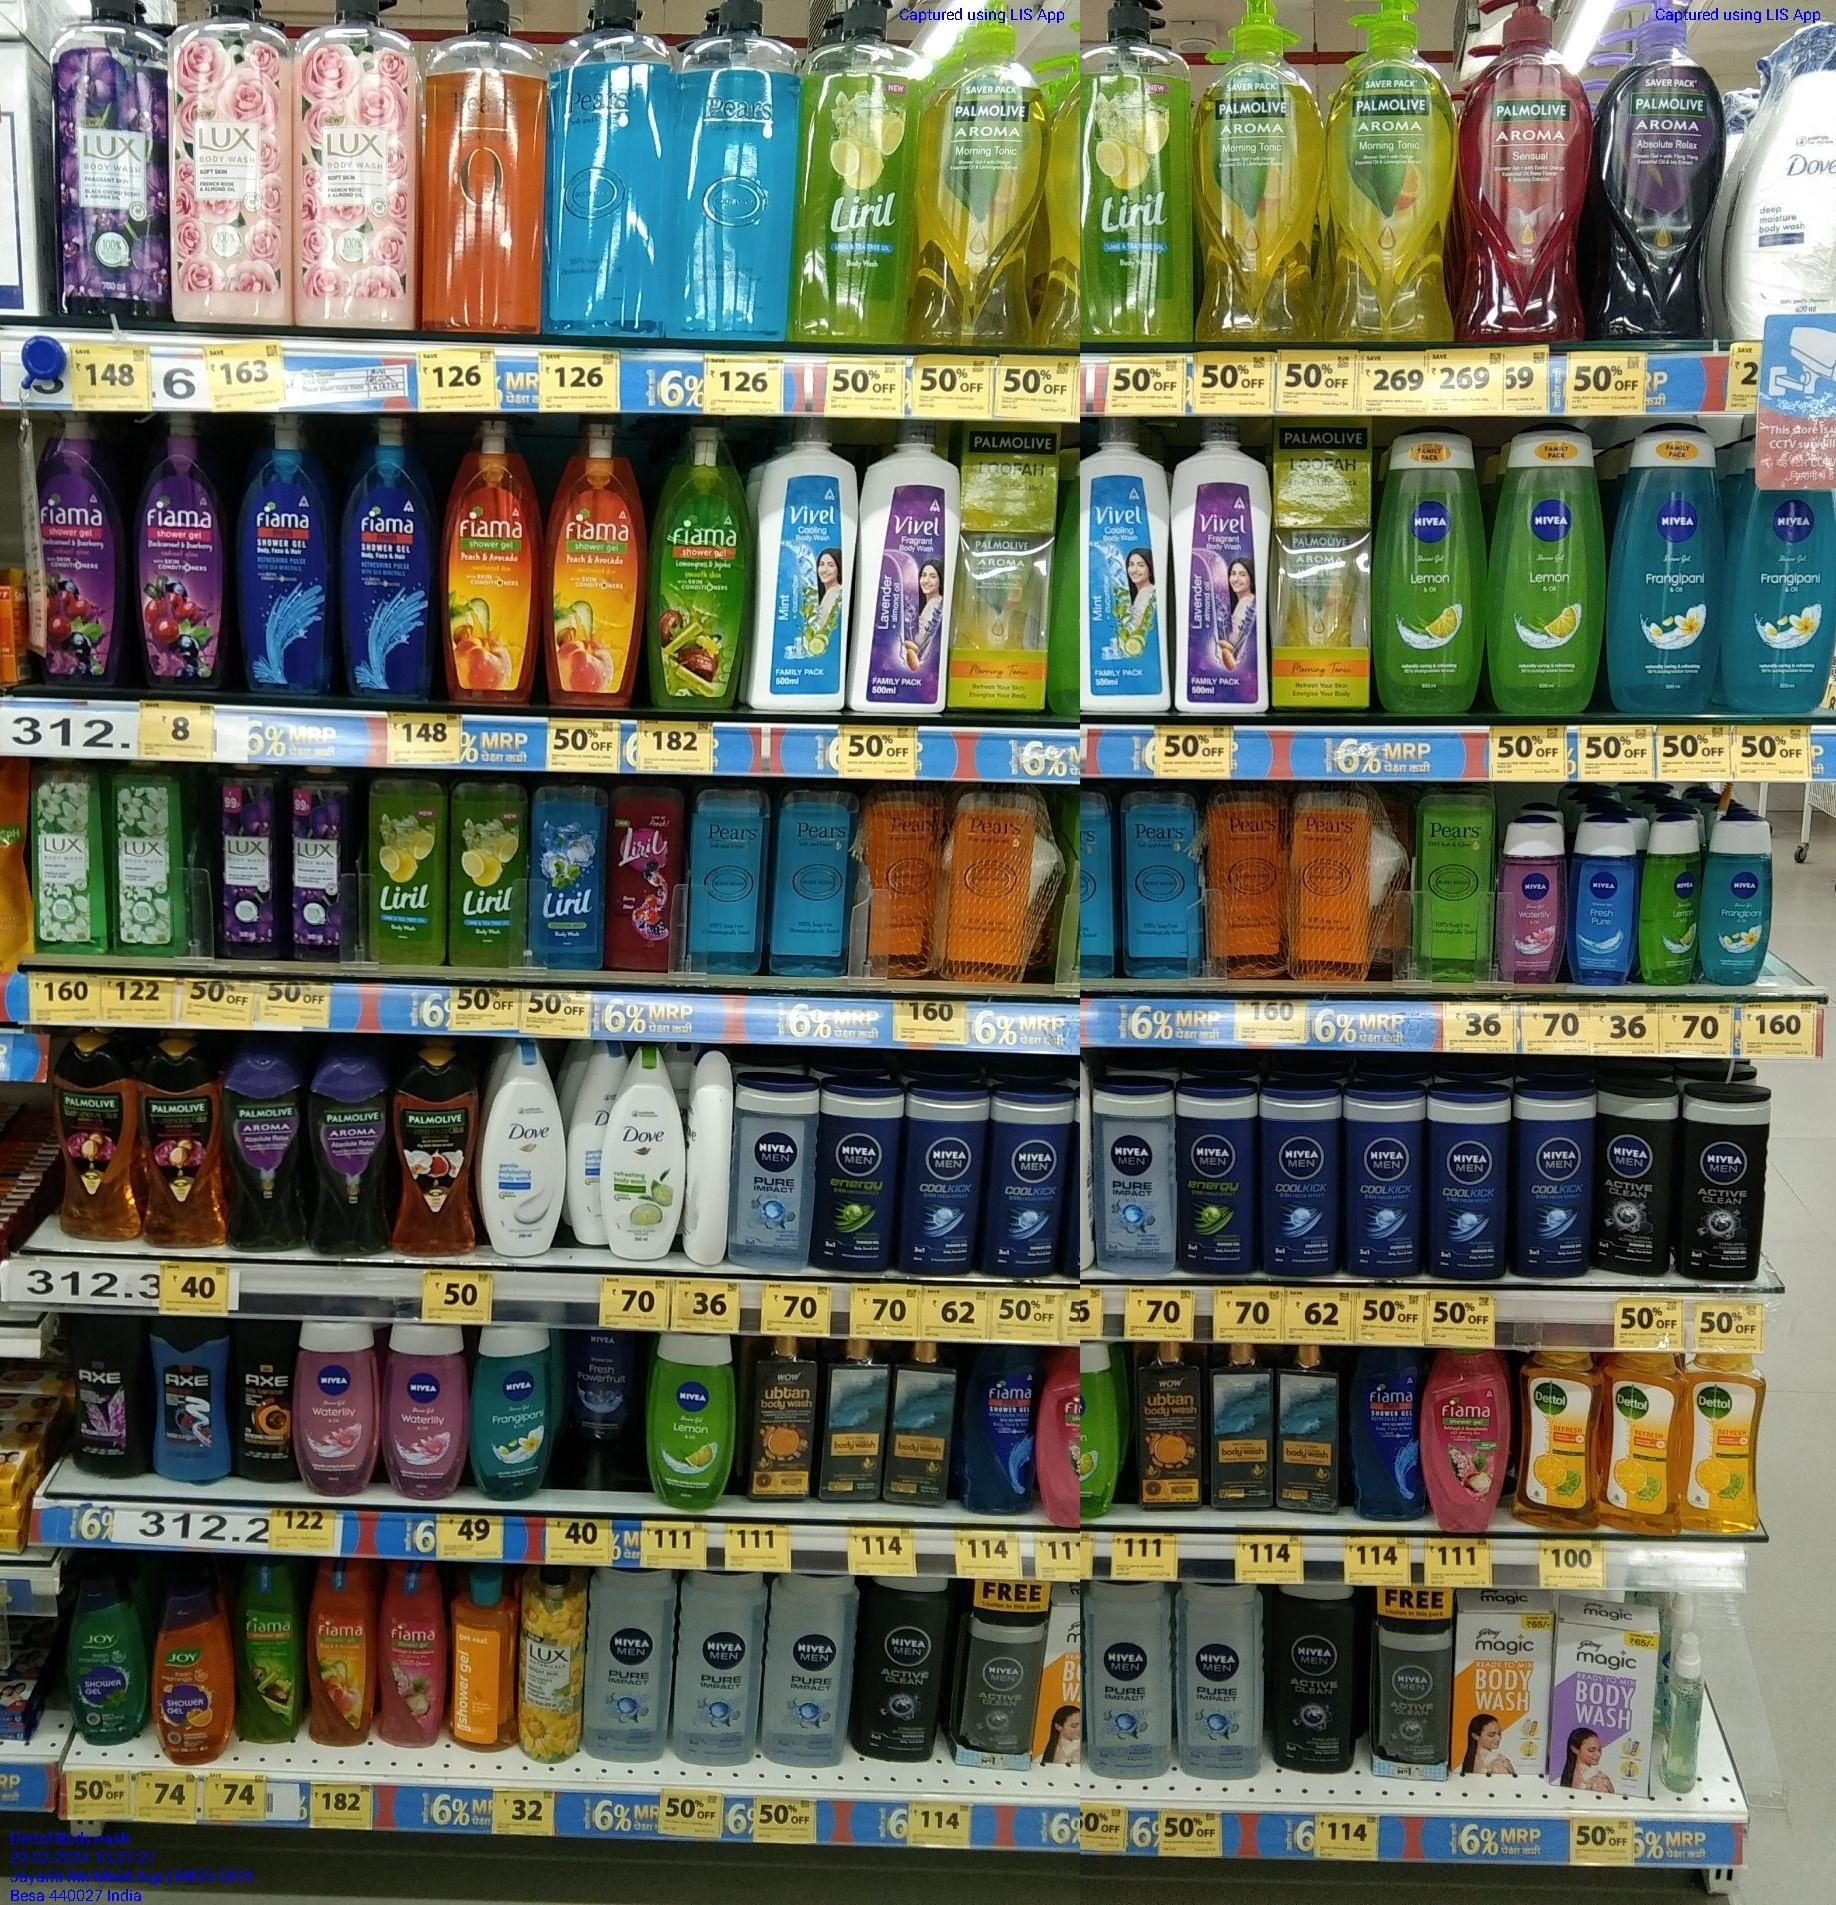Dettol_Bodywash_Refresh: (1606, 1351, 1693, 1539), (1525, 1347, 1605, 1536), (1693, 1347, 1763, 1534)
Dove_Gentle_Exfoliating_Body_Wash_250ML: (482, 1038, 572, 1260)
Dove_Refreshing_Body_Wash_250ML: (607, 1046, 684, 1259)
Fiama_Shower_Gel_Patchouli_and_Macadamia_250ML: (1424, 1345, 1516, 1538)
Joy_Shower_Gel_Mandarin_and_Lemongrass_250ML: (146, 1592, 237, 1769), (73, 1578, 141, 1747)
Lux_Black_Orchid_Scent_and_Juniper_Oil_Body_Wash_245ML: (214, 757, 282, 956), (286, 767, 356, 959)
Lux_Body_Wash_Skin_Detox_Freesia_Scent_and_Alove_Vera_245ML: (31, 760, 109, 956), (111, 760, 187, 958)
Nivea_Shower_Gel_Frangipani_and_Oil_250ML: (1613, 427, 1722, 716), (1729, 471, 1836, 713), (473, 1316, 553, 1505)
Nivea_Shower_Gel_Lemon_and_Oil_250ML: (1378, 435, 1487, 713), (1491, 434, 1598, 714), (647, 1327, 733, 1510)
Nivea_Shower_Gel_Waterlily_and_Oil_250ML: (294, 1313, 378, 1500), (385, 1322, 468, 1500)
Palmolive_Aroma_Relax_250ML: (226, 1049, 305, 1254), (310, 1056, 386, 1262)
Palmolive_Luminous_Oils_Invigorating_Macadamia_Oil_With_Peony_250ML: (51, 1041, 141, 1240), (150, 1039, 221, 1254)
Palmolive_Luminous_Oils_With_White_Orchid_Shower_Gel_250ML: (391, 1056, 480, 1259)
